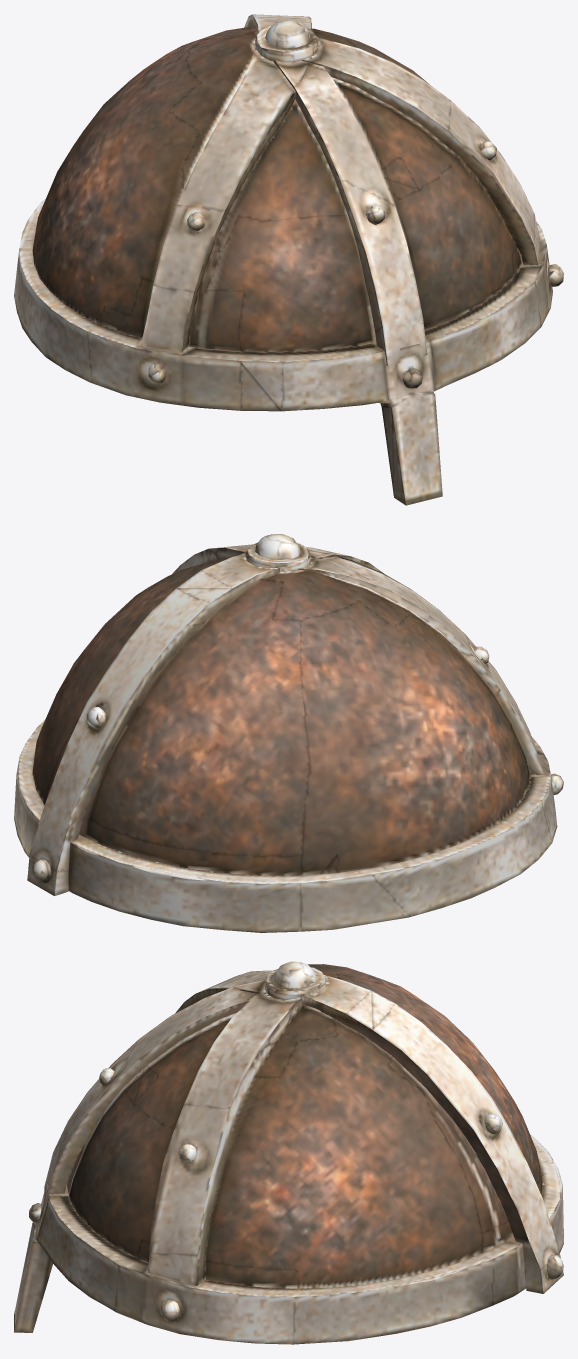
Rendered from item_mm9_10117.glb.
3 renders of one model, top to bottom at view 1: azimuth 30°, elevation 25°; view 2: azimuth 150°, elevation 25°; view 3: azimuth 270°, elevation 25°, orthographic. The views are drawn at different scales.
Visible parts, largest first — view 1: d10117; view 2: d10117; view 3: d10117.
Part boxes in pixels (x1,y1,x2,y2): d10117: (14, 14, 563, 505); d10117: (14, 534, 563, 932); d10117: (14, 961, 563, 1344).
Size of the model in its own units: 0.9674 by 0.7314 by 1.
Materials: 1 (1 with a texture image).
